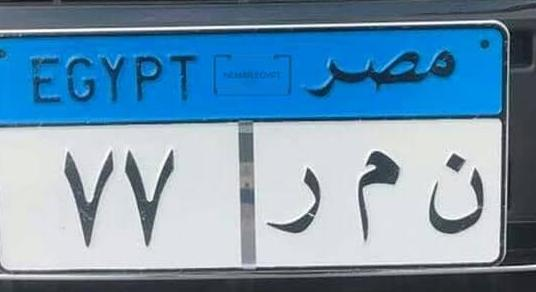7: (121, 144, 179, 252), (61, 147, 116, 254)
meem: (347, 140, 401, 249)
noon: (421, 150, 489, 243)
raa: (260, 156, 331, 249)
